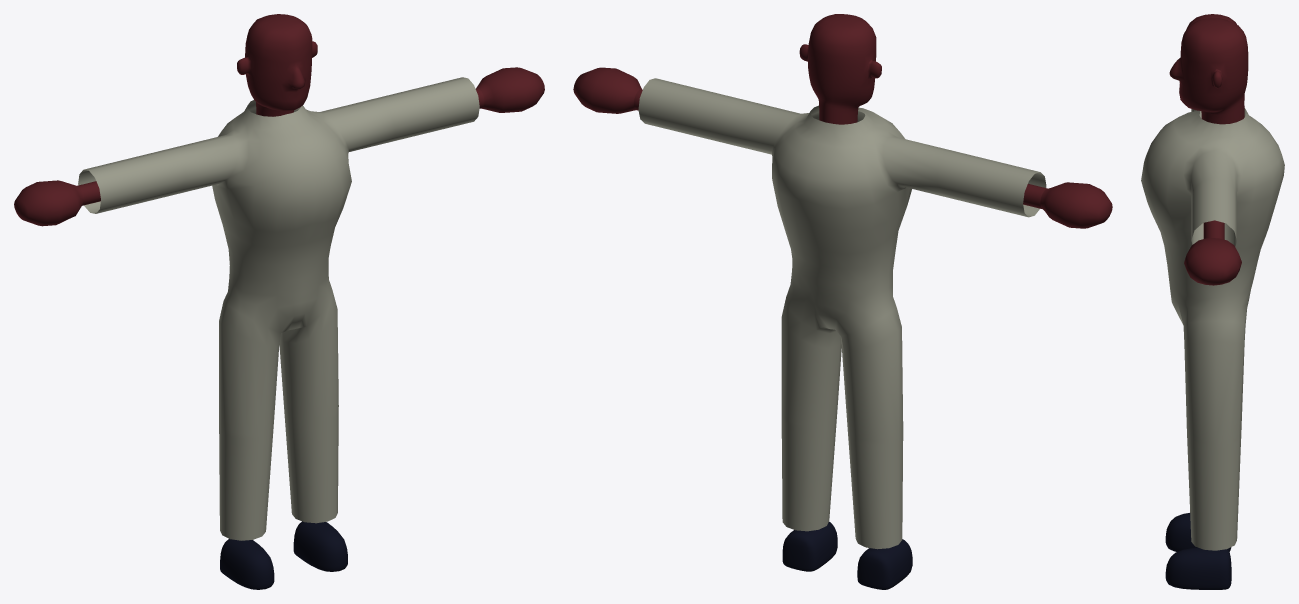
File: NPC_A.fbx
The picture shows the model from 3 angles, left to right: view 1: azimuth 30°, elevation 25°; view 2: azimuth 150°, elevation 25°; view 3: azimuth 270°, elevation 25°; orthographic projection. The views are drawn at different scales.
Visible parts, largest first — view 1: NPC_Body, NPC_Head, NPC_Hands, NPC_Shoes; view 2: NPC_Body, NPC_Head, NPC_Hands, NPC_Shoes; view 3: NPC_Body, NPC_Head, NPC_Shoes, NPC_Hands.
Part boxes in pixels (x1,y1,x2,y2): NPC_Body: (78,77,479,540); NPC_Head: (237,14,317,116); NPC_Hands: (14,67,544,226); NPC_Shoes: (220,521,347,589); NPC_Body: (638,78,1046,549); NPC_Head: (799,14,881,124); NPC_Hands: (573,67,1112,228); NPC_Shoes: (782,521,912,589); NPC_Body: (1141,108,1284,550); NPC_Head: (1169,18,1248,124); NPC_Shoes: (1165,513,1231,589); NPC_Hands: (1184,14,1241,285).
Size of the model in its own units: 452 by 450 by 108.
